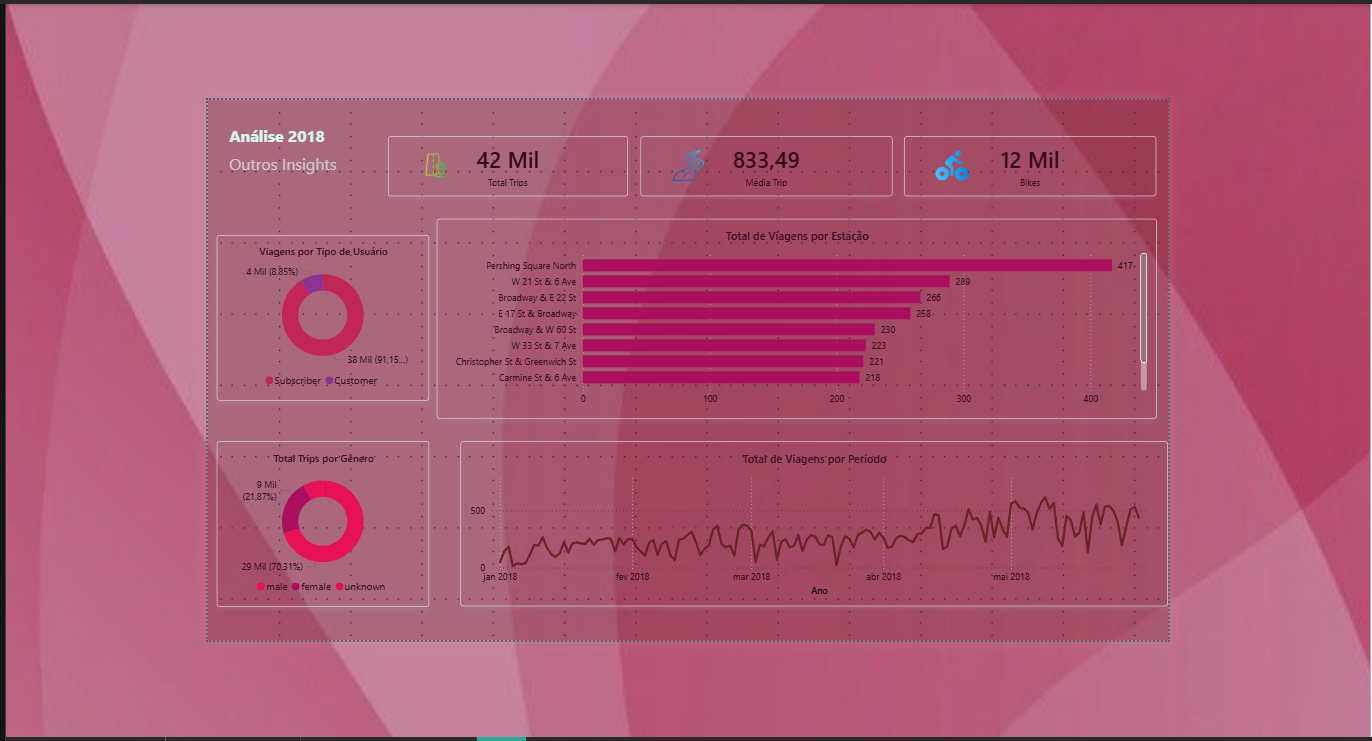

Layout of this report page (visuals, bound fields, positions):
{"tool":"powerbi","page":{"name":"Análise 2018","canvas":[1280,720],"ordinal":0},"visuals":[{"type":"card","fields":{"Values":["Medidas.Total Trips"]},"box":[240,48,320,80],"z":0},{"type":"card","fields":{"Values":["Medidas.Média Trip"]},"box":[576,48,336,80],"z":1000},{"type":"card","fields":{"Values":["Medidas.Bikes"]},"box":[928,48,336,80],"z":2000},{"type":"lineChart","title":"Total de Viagens por Período","fields":{"Y":["Medidas.Total Trips"],"Category":["Dados_2018.starttime.Variation.Hierarquia de datas.Ano","Dados_2018.starttime.Variation.Hierarquia de datas.Trimestre","Dados_2018.starttime.Variation.Hierarquia de datas.Mês","Dados_2018.starttime.Variation.Hierarquia de datas.Dia"]},"box":[337.2,455.6,942.8,219.9],"z":3000},{"type":"donutChart","title":"Viagens por Tipo de Usuário","fields":{"Category":["Dados_2018.usertype"],"Y":["Medidas.Total Trips"]},"box":[11.3,180.4,283.1,221],"z":4000},{"type":"donutChart","title":"Total Trips por Gênero","fields":{"Category":["Dados_2018.gender"],"Y":["Medidas.Total Trips"]},"box":[11.3,454.5,283.1,221],"z":5000},{"type":"clusteredBarChart","title":"Total de Viagens por Estação","fields":{"Category":["Dados_2018.start_station_name"],"Y":["Medidas.Total Trips"]},"box":[305.4,157.6,960,266.5],"z":6000},{"type":"textbox","box":[22.6,28.2,271.8,43],"z":7000},{"type":"textbox","box":[22.6,65.4,271.8,44],"z":8000},{"type":"image","box":[288,64,32,48],"z":9000},{"type":"image","box":[608,64,64,48],"z":13000},{"type":"image","box":[960,64,64,48],"z":14000}]}

Visuals, with their boxes on the page's 1280x720 design canvas (x1, y1, x2, y2). These are canvas units, not pixel positions in the 1372x741 screenshot, which may show the page scaled, cropped or inside an application window:
card - Medidas.Total Trips: BBox(240, 48, 560, 128)
card - Medidas.Média Trip: BBox(576, 48, 912, 128)
card - Medidas.Bikes: BBox(928, 48, 1264, 128)
"Total de Viagens por Período" lineChart: BBox(337, 456, 1280, 676)
"Viagens por Tipo de Usuário" donutChart: BBox(11, 180, 294, 401)
"Total Trips por Gênero" donutChart: BBox(11, 454, 294, 676)
"Total de Viagens por Estação" clusteredBarChart: BBox(305, 158, 1265, 424)
textbox: BBox(23, 28, 294, 71)
textbox: BBox(23, 65, 294, 109)
image: BBox(288, 64, 320, 112)
image: BBox(608, 64, 672, 112)
image: BBox(960, 64, 1024, 112)
